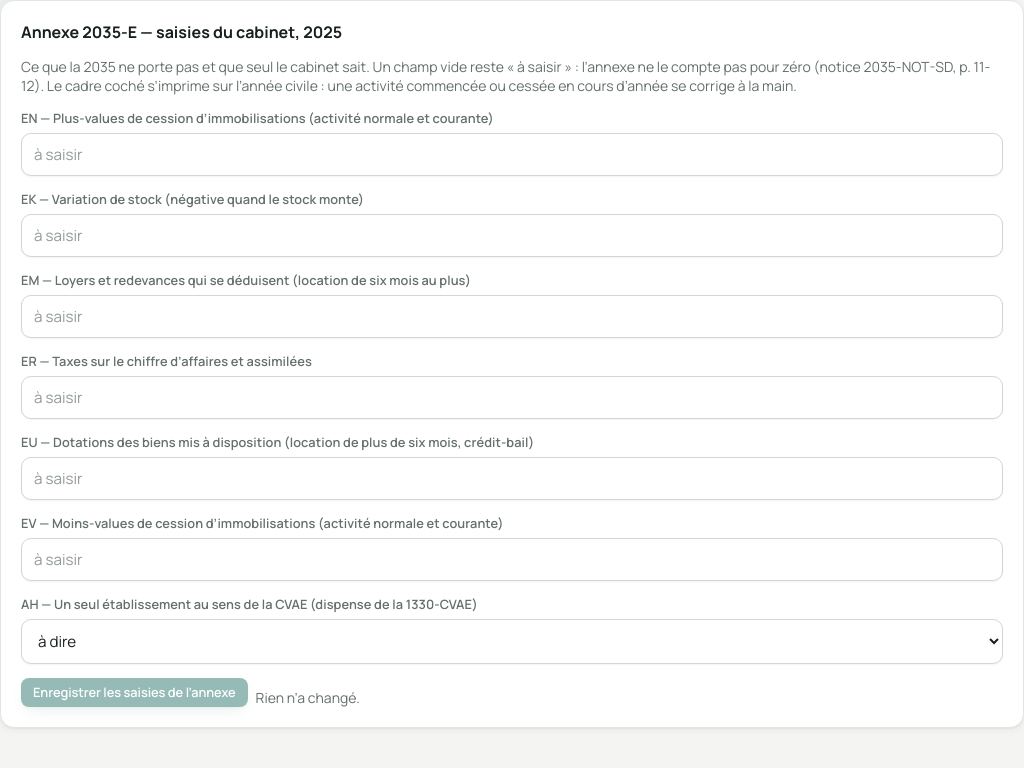
it: la carte des saisies de l’annexe 2035-E › dit le refus de la base sous ses mots, et relit quand même
The image size is (1024, 768).
Type "0" into the field labelled "EN — " at (512, 154), box top-left (21, 133), bottom-right (1003, 176)
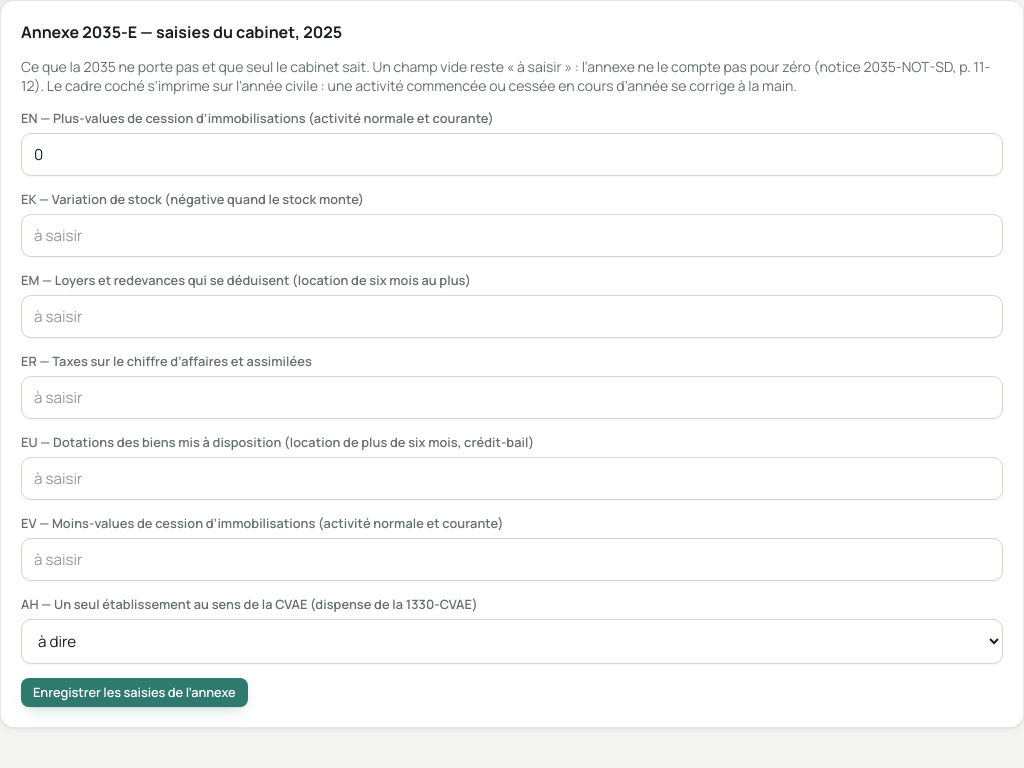
Click the button "Enregistrer les saisies de l’annexe" at (134, 693), box top-left (21, 678), bottom-right (248, 707)
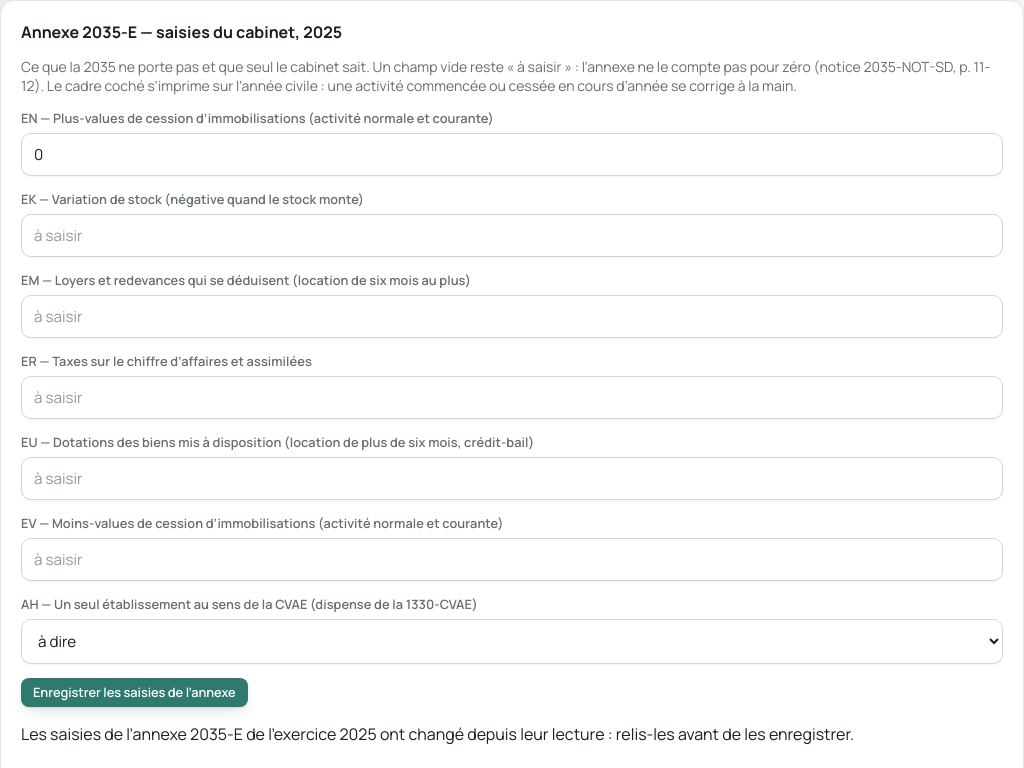
Result: the text "ont changé depuis leur lecture" is shown at top-left (21, 723), bottom-right (854, 745)
